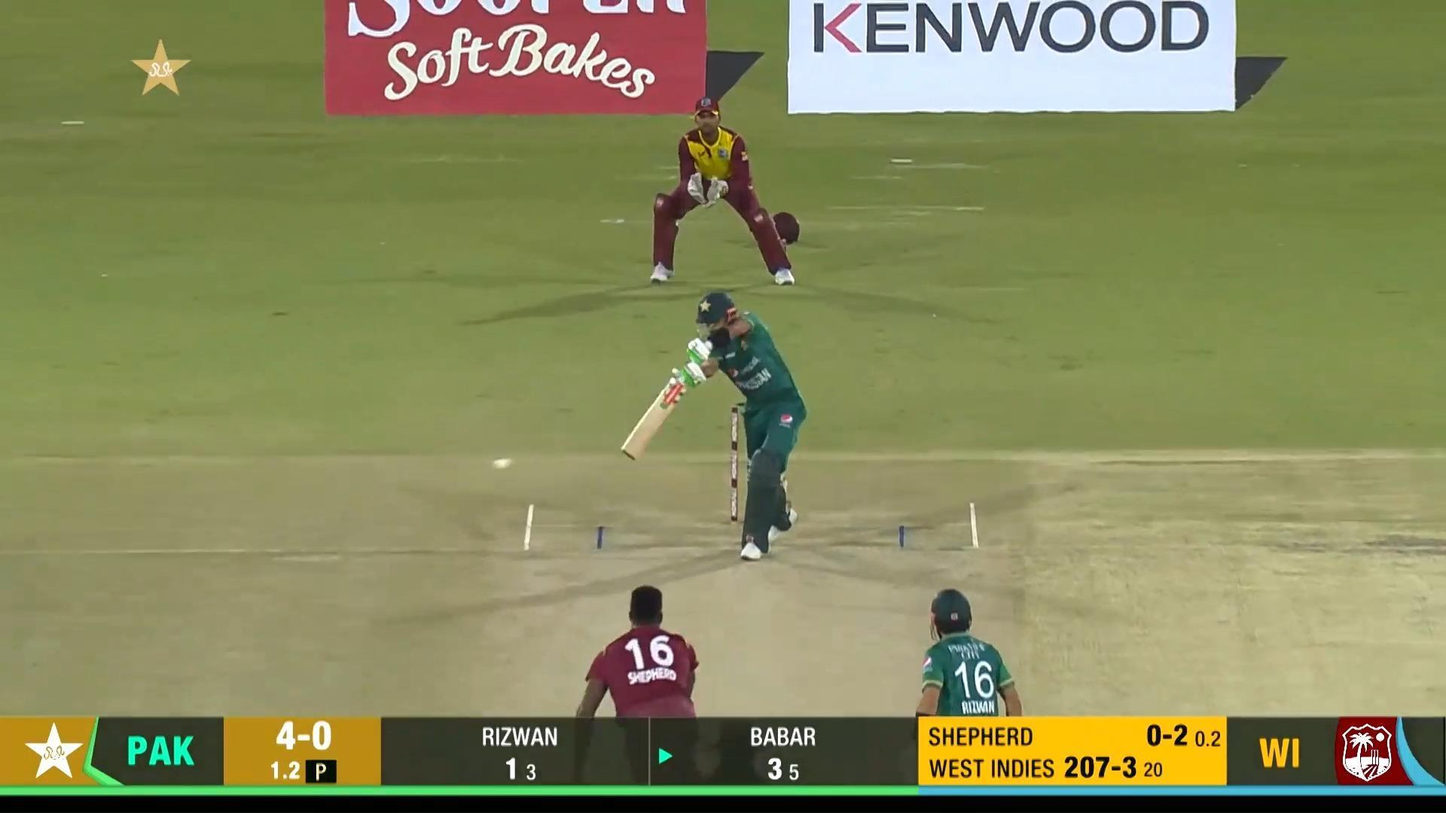BM 1: (621, 291, 807, 560)
BO: (911, 585, 1032, 813)
